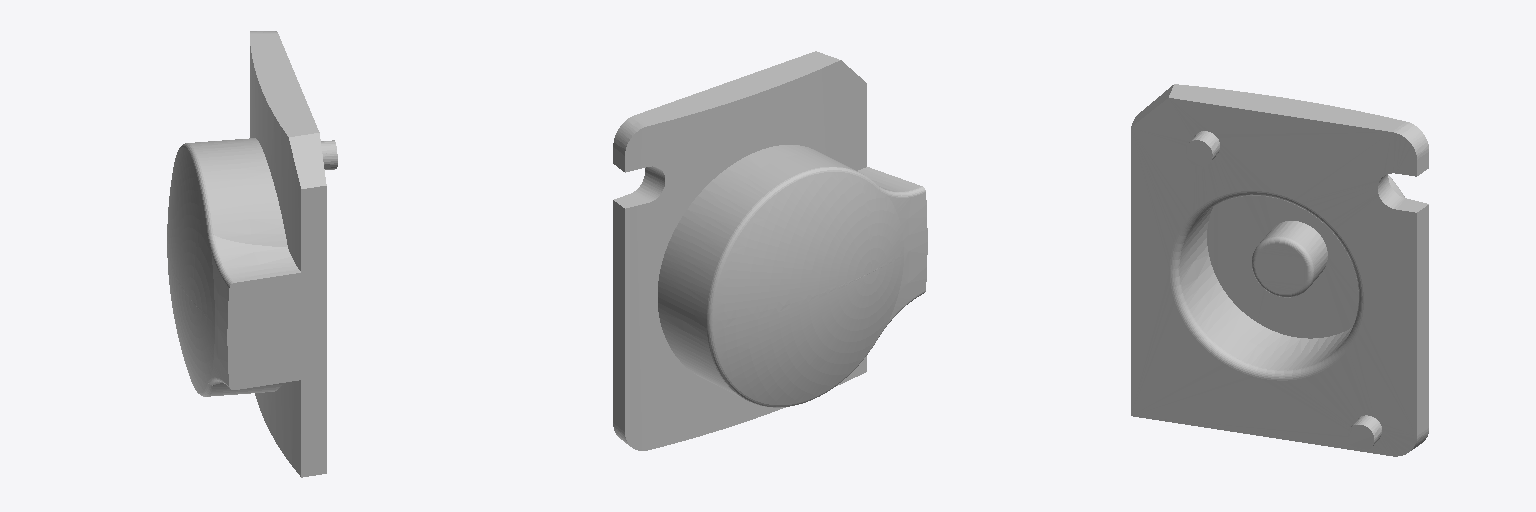
The model's file is ase022_E_key_1.obj.
The picture shows the model from 3 angles: view 1: azimuth 30°, elevation 25°; view 2: azimuth 150°, elevation 25°; view 3: azimuth 270°, elevation 25°; orthographic projection.
Size of the model in its own units: 8.2 by 13.5 by 11.27.